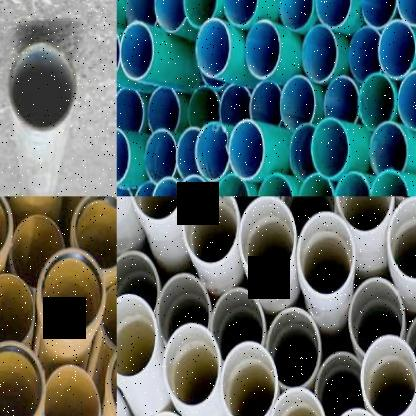pipe: (8, 41, 76, 134), (39, 248, 105, 336), (297, 211, 355, 297), (163, 323, 220, 407), (239, 196, 296, 279), (266, 306, 322, 390), (360, 334, 416, 416), (219, 339, 277, 416), (348, 276, 404, 355), (210, 288, 266, 366), (156, 273, 211, 347), (181, 197, 239, 266), (11, 213, 64, 288), (0, 340, 44, 416), (314, 351, 365, 416), (73, 196, 117, 271), (117, 295, 155, 378), (42, 363, 101, 416), (0, 273, 35, 349), (117, 250, 160, 310), (387, 196, 416, 282), (310, 117, 350, 179), (282, 196, 338, 240), (378, 19, 416, 79), (335, 196, 394, 234), (194, 121, 230, 181), (358, 72, 394, 131), (302, 24, 338, 83), (196, 19, 232, 78), (369, 120, 408, 174), (280, 74, 316, 132), (120, 21, 154, 81), (229, 120, 264, 178), (245, 20, 280, 78), (348, 26, 381, 82), (323, 76, 360, 124), (268, 386, 327, 416), (144, 128, 176, 183), (289, 123, 316, 182), (128, 196, 187, 222), (249, 81, 282, 125), (148, 87, 180, 132), (188, 85, 221, 128), (224, 196, 280, 221), (219, 83, 252, 125), (117, 87, 145, 133), (99, 277, 116, 350), (398, 70, 416, 131), (369, 169, 409, 196), (278, 0, 314, 30), (316, 0, 352, 29), (182, 0, 218, 29), (154, 0, 186, 32), (360, 0, 397, 27), (256, 171, 293, 196), (224, 0, 258, 27), (335, 171, 370, 196), (298, 173, 336, 196), (405, 309, 416, 386), (125, 0, 158, 25), (0, 196, 12, 264), (116, 127, 130, 185), (214, 174, 250, 196), (176, 174, 210, 196), (151, 176, 180, 196), (327, 407, 387, 416), (397, 0, 416, 24), (134, 180, 156, 196)
